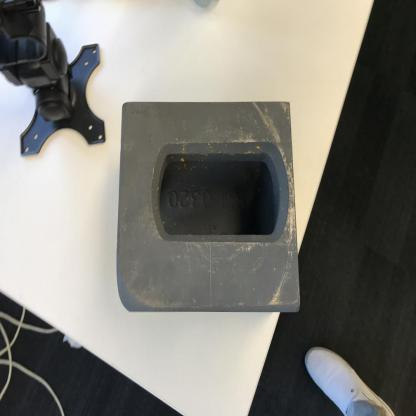CornerCasting: (116, 93, 309, 319)
